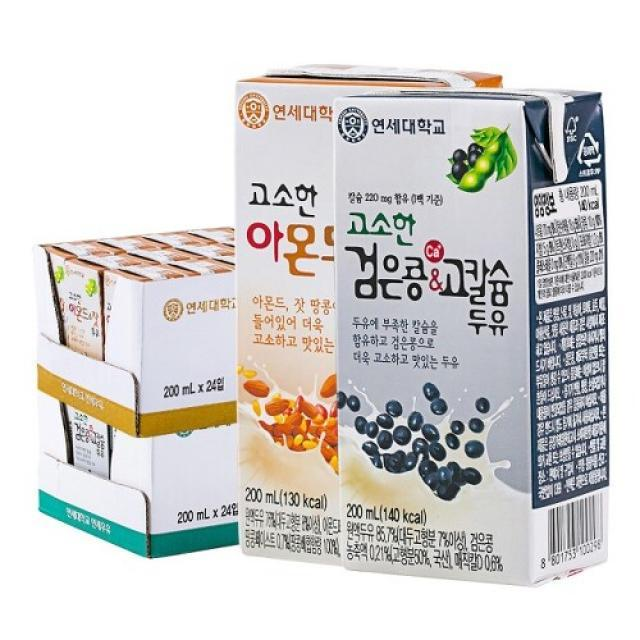Tetra: (232, 50, 509, 585), (330, 85, 616, 597)
